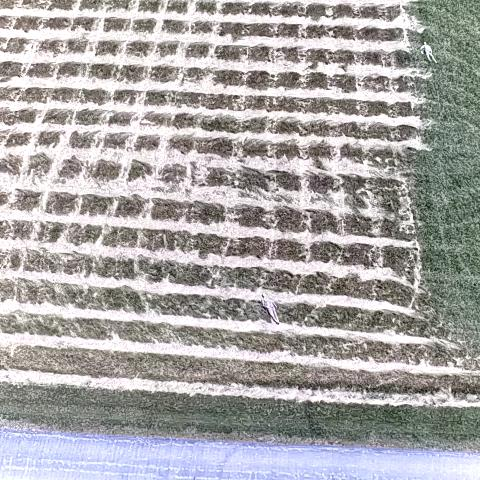person: (259, 290, 279, 322)
